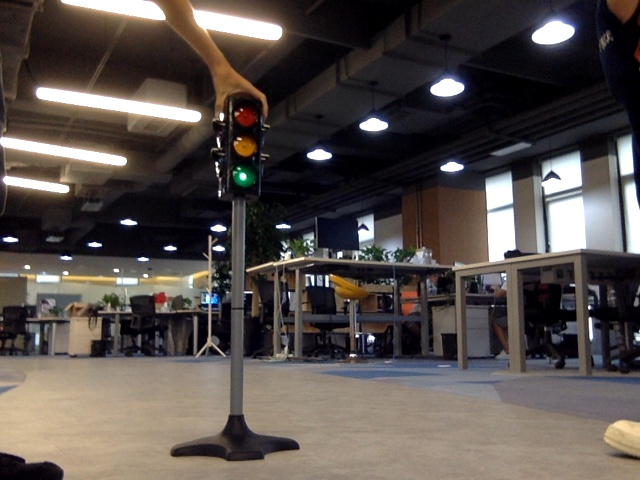green: (228, 100, 255, 191)
